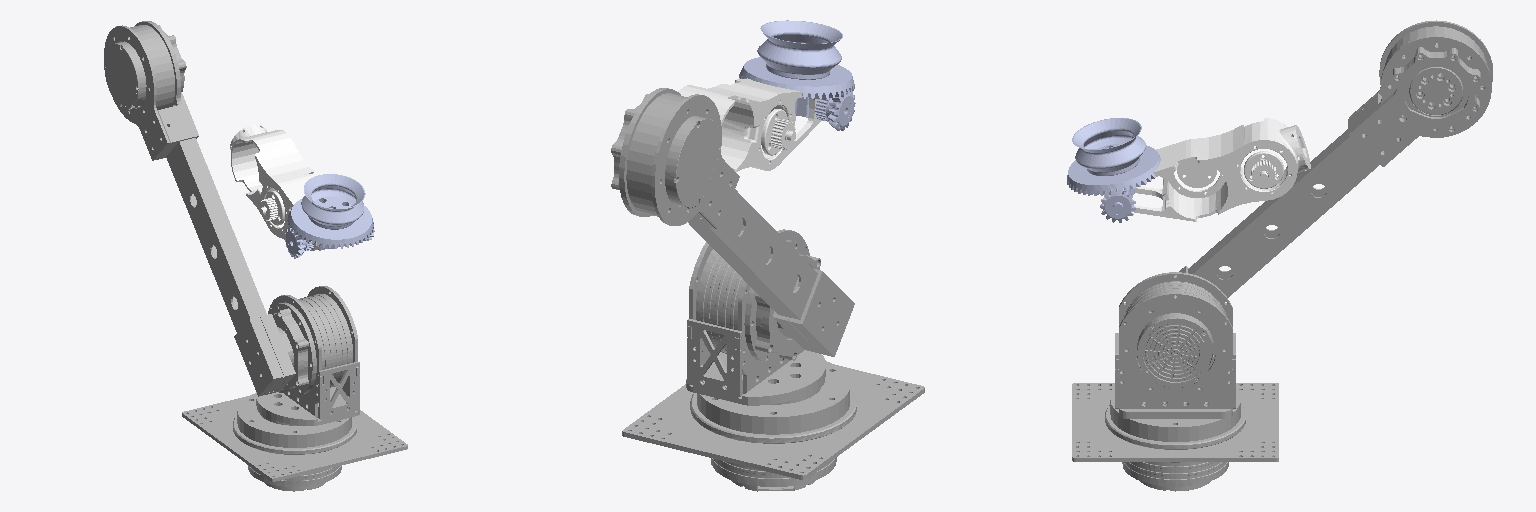
URDF robot description (hjarm_golden):
<?xml version="1.0" encoding="utf-8" ?>
<!-- This URDF was automatically created by SolidWorks to URDF Exporter! Originally created by [author] ([email redacted]) 
     Commit Version: 1.6.0-4-g7f85cfe  Build Version: 1.6.7995.38578
     For more information, please see http://wiki.ros.org/sw_urdf_exporter -->
<robot name="hjarm_golden">
    <link name="world"/>
    <joint name="world_joint" type="fixed">
        <parent link="world" />
        <child link="base_link" />
        <origin xyz="0 0 0.1" rpy="0 0 0" />
    </joint>
    <link name="base_link">
        <inertial>
            <origin xyz="3.3161E-05 -1.5028E-05 -0.015945" rpy="0 0 0" />
            <mass value="0.61411" />
            <inertia ixx="0.00081132" ixy="-1.6992E-07" ixz="-1.6229E-08" iyy="0.00072202" iyz="6.1775E-09" izz="0.001416" />
        </inertial>
        <visual>
            <origin xyz="0 0 0" rpy="0 0 0" />
            <geometry>
                <mesh filename="package://hjarm_golden/meshes/base_link.STL" />
            </geometry>
            <material name="">
                <color rgba="0.75294 0.75294 0.75294 1" />
            </material>
        </visual>
        <collision>
            <origin xyz="0 0 0" rpy="0 0 0" />
            <geometry>
                <mesh filename="package://hjarm_golden/meshes/base_link.STL" />
            </geometry>
        </collision>
    </link>
    <link name="Link1">
        <inertial>
            <origin xyz="-0.074266 0.011815 3.0696E-06" rpy="0 0 0" />
            <mass value="0.73371" />
            <inertia ixx="0.0005847" ixy="2.4929E-06" ixz="-2.128E-06" iyy="0.00080459" iyz="-9.4598E-08" izz="0.00046838" />
        </inertial>
        <visual>
            <origin xyz="0 0 0" rpy="0 0 0" />
            <geometry>
                <mesh filename="package://hjarm_golden/meshes/Link1.STL" />
            </geometry>
            <material name="">
                <color rgba="0.75294 0.75294 0.75294 1" />
            </material>
        </visual>
        <collision>
            <origin xyz="0 0 0" rpy="0 0 0" />
            <geometry>
                <mesh filename="package://hjarm_golden/meshes/Link1.STL" />
            </geometry>
        </collision>
    </link>
    <joint name="joint1" type="revolute">
        <origin xyz="0 0 0" rpy="1.5708 1.5708 0" />
        <parent link="base_link" />
        <child link="Link1" />
        <axis xyz="-1 0 0" />
        <limit lower="-3.14" upper="3.14" effort="50" velocity="0.1" />
    </joint>
    <link name="Link2">
        <inertial>
            <origin xyz="-0.16698 -0.011966 -0.17283" rpy="0 0 0" />
            <mass value="0.70058" />
            <inertia ixx="0.0006596" ixy="-3.4043E-06" ixz="-0.0003414" iyy="0.0012495" iyz="-3.2042E-06" izz="0.00063539" />
        </inertial>
        <visual>
            <origin xyz="0 0 0" rpy="0 0 0" />
            <geometry>
                <mesh filename="package://hjarm_golden/meshes/Link2.STL" />
            </geometry>
            <material name="">
                <color rgba="0.75294 0.75294 0.75294 1" />
            </material>
        </visual>
        <collision>
            <origin xyz="0 0 0" rpy="0 0 0" />
            <geometry>
                <mesh filename="package://hjarm_golden/meshes/Link2.STL" />
            </geometry>
        </collision>
    </link>
    <joint name="joint2" type="revolute">
        <origin xyz="-0.0872 -0.0225 0" rpy="0 0 0" />
        <parent link="Link1" />
        <child link="Link2" />
        <axis xyz="0 -1 0" />
        <limit lower="-2.53" upper="0" effort="50" velocity="0.1" />
    </joint>
    <link name="Link3">
        <inertial>
            <origin xyz="0.0044216 -0.052434 1.1034E-05" rpy="0 0 0" />
            <mass value="0.38094" />
            <inertia ixx="0.00019473" ixy="1.9237E-07" ixz="-8.5492E-08" iyy="0.0001481" iyz="-1.1071E-08" izz="0.00018078" />
        </inertial>
        <visual>
            <origin xyz="0 0 0" rpy="0 0 0" />
            <geometry>
                <mesh filename="package://hjarm_golden/meshes/Link3.STL" />
            </geometry>
            <material name="">
                <color rgba="0.75294 0.75294 0.75294 1" />
            </material>
        </visual>
        <collision>
            <origin xyz="0 0 0" rpy="0 0 0" />
            <geometry>
                <mesh filename="package://hjarm_golden/meshes/Link3.STL" />
            </geometry>
        </collision>
    </link>
    <joint name="joint3" type="revolute">
        <origin xyz="-0.23142 0.0336 -0.23951" rpy="-1.9024 0 -1.5708" />
        <parent link="Link2" />
        <child link="Link3" />
        <axis xyz="-1 0 0" />
        <limit lower="-4.06" upper="0" effort="35" velocity="0.1" />
    </joint>
    <link name="Link4">
        <inertial>
            <origin xyz="-0.072787 0.00059635 1.3776E-05" rpy="0 0 0" />
            <mass value="0.33896" />
            <inertia ixx="0.00013548" ixy="1.3168E-05" ixz="-5.9813E-06" iyy="0.00031257" iyz="3.3431E-08" izz="0.00035055" />
        </inertial>
        <visual>
            <origin xyz="0 0 0" rpy="0 0 0" />
            <geometry>
                <mesh filename="package://hjarm_golden/meshes/Link4.STL" />
            </geometry>
            <material name="">
                <color rgba="1 1 1 1" />
            </material>
        </visual>
        <collision>
            <origin xyz="0 0 0" rpy="0 0 0" />
            <geometry>
                <mesh filename="package://hjarm_golden/meshes/Link4.STL" />
            </geometry>
        </collision>
    </link>
    <joint name="joint4" type="revolute">
        <origin xyz="0 -0.1294 0" rpy="-1.5708 0 1.5708" />
        <parent link="Link3" />
        <child link="Link4" />
        <axis xyz="-1 0 0" />
        <limit lower="-3.14" upper="3.14" effort="15" velocity="0.1" />
    </joint>
    <link name="Link5">
        <inertial>
            <origin xyz="0.0014631 -2.4696E-05 4.1757E-10" rpy="0 0 0" />
            <mass value="0.030251" />
            <inertia ixx="2.4728E-06" ixy="9.771E-14" ixz="2.8972E-13" iyy="3.4415E-06" iyz="3.9363E-15" izz="3.1278E-06" />
        </inertial>
        <visual>
            <origin xyz="0 0 0" rpy="0 0 0" />
            <geometry>
                <mesh filename="package://hjarm_golden/meshes/Link5.STL" />
            </geometry>
            <material name="">
                <color rgba="0.79608 0.82353 0.93725 1" />
            </material>
        </visual>
        <collision>
            <origin xyz="0 0 0" rpy="0 0 0" />
            <geometry>
                <mesh filename="package://hjarm_golden/meshes/Link5.STL" />
            </geometry>
        </collision>
    </link>
    <joint name="joint5" type="revolute">
        <origin xyz="-0.17375 0.018 0" rpy="2.9986 -1.5708 0" />
        <parent link="Link4" />
        <child link="Link5" />
        <axis xyz="1 0 0" />
        <limit lower="0" upper="2.55" effort="15" velocity="0.1" />
    </joint>
    <link name="Link6">
        <inertial>
            <origin xyz="0.022981 -1.1912E-09 4.4528E-09" rpy="0 0 0" />
            <mass value="0.089817" />
            <inertia ixx="6.7899E-05" ixy="-1.9452E-13" ixz="-8.7988E-13" iyy="3.7367E-05" iyz="3.5967E-13" izz="3.7367E-05" />
        </inertial>
        <visual>
            <origin xyz="0 0 0" rpy="0 3.14159 0" />
            <geometry>
                <mesh filename="package://hjarm_golden/meshes/Link6.STL" />
            </geometry>
            <material name="">
                <color rgba="0.79608 0.82353 0.93725 1" />
            </material>
        </visual>
        <collision>
            <origin xyz="0 0 0" rpy="0 3.14159 0" />
            <geometry>
                <mesh filename="package://hjarm_golden/meshes/Link6.STL" />
            </geometry>
        </collision>
    </link>
    <joint name="joint6" type="revolute">
        <origin xyz="0 0 0" rpy="3.1416 0 1.5708" />
        <parent link="Link5" />
        <child link="Link6" />
        <axis xyz="1 0 0" />
        <limit lower="-3.14" upper="3.14" effort="15" velocity="0.1" />
    </joint>

       <transmission name="trans_joint1">
        <type>transmission_interface/SimpleTransmission</type>
        <joint name="joint1">
            <hardwareInterface>hardware_interface/PositionJointInterface</hardwareInterface>
        </joint>
        <actuator name="joint1_motor">
            <mechanicalReduction>1</mechanicalReduction>
        </actuator>
    </transmission>
    <transmission name="trans_joint2">
        <type>transmission_interface/SimpleTransmission</type>
        <joint name="joint2">
            <hardwareInterface>hardware_interface/PositionJointInterface</hardwareInterface>
        </joint>
        <actuator name="joint2_motor">
            <mechanicalReduction>1</mechanicalReduction>
        </actuator>
    </transmission>
    <transmission name="trans_joint3">
        <type>transmission_interface/SimpleTransmission</type>
        <joint name="joint3">
            <hardwareInterface>hardware_interface/PositionJointInterface</hardwareInterface>
        </joint>
        <actuator name="joint3_motor">
            <mechanicalReduction>1</mechanicalReduction>
        </actuator>
    </transmission>
    <transmission name="trans_joint4">
        <type>transmission_interface/SimpleTransmission</type>
        <joint name="joint4">
            <hardwareInterface>hardware_interface/PositionJointInterface</hardwareInterface>
        </joint>
        <actuator name="joint4_motor">
            <mechanicalReduction>1</mechanicalReduction>
        </actuator>
    </transmission>
    <transmission name="trans_joint5">
        <type>transmission_interface/SimpleTransmission</type>
        <joint name="joint5">
            <hardwareInterface>hardware_interface/PositionJointInterface</hardwareInterface>
        </joint>
        <actuator name="joint5_motor">
            <mechanicalReduction>1</mechanicalReduction>
        </actuator>
    </transmission>
    <transmission name="trans_joint6">
        <type>transmission_interface/SimpleTransmission</type>
        <joint name="joint6">
            <hardwareInterface>hardware_interface/PositionJointInterface</hardwareInterface>
        </joint>
        <actuator name="joint6_motor">
            <mechanicalReduction>1</mechanicalReduction>
        </actuator>
    </transmission>
</robot>

--- What the picture shows (computed from the rendered views, not written in the file) ---
3 views of the same robot in one strip: view 1: azimuth 30°, elevation 25°; view 2: azimuth 150°, elevation 25°; view 3: azimuth 270°, elevation 25° (orthographic).
Robot: hjarm_golden — 8 links, 7 joints (6 revolute, 1 fixed); root link world; default pose: all joints at 0.
Links seen in each view (by area): view 1: Link2, base_link, Link1, Link4, Link6, Link5; view 2: Link2, base_link, Link1, Link4, Link6, Link5; view 3: Link2, Link1, base_link, Link4, Link6, Link5.
Link boxes in pixels (x1,y1,x2,y2): Link2: (104,21,295,396); base_link: (182,393,407,491); Link1: (256,286,359,425); Link4: (230,124,319,250); Link6: (287,174,373,248); Link5: (285,228,374,258); Link2: (611,88,854,356); base_link: (622,361,924,491); Link1: (686,229,825,405); Link4: (678,78,821,171); Link6: (739,20,854,115); Link5: (739,78,855,130); Link2: (1179,20,1492,297); Link1: (1115,272,1235,418); base_link: (1072,383,1278,491); Link4: (1104,118,1310,221); Link6: (1067,118,1160,195); Link5: (1100,188,1135,222).
Size in the robot's own frame: 0.165 by 0.3923 by 0.4325 metres.
Meshes: 7 distinct files referenced, 6 mesh visuals loaded (6 binary STL); not drawn: 1 (reference not matched to a file when rendering).
